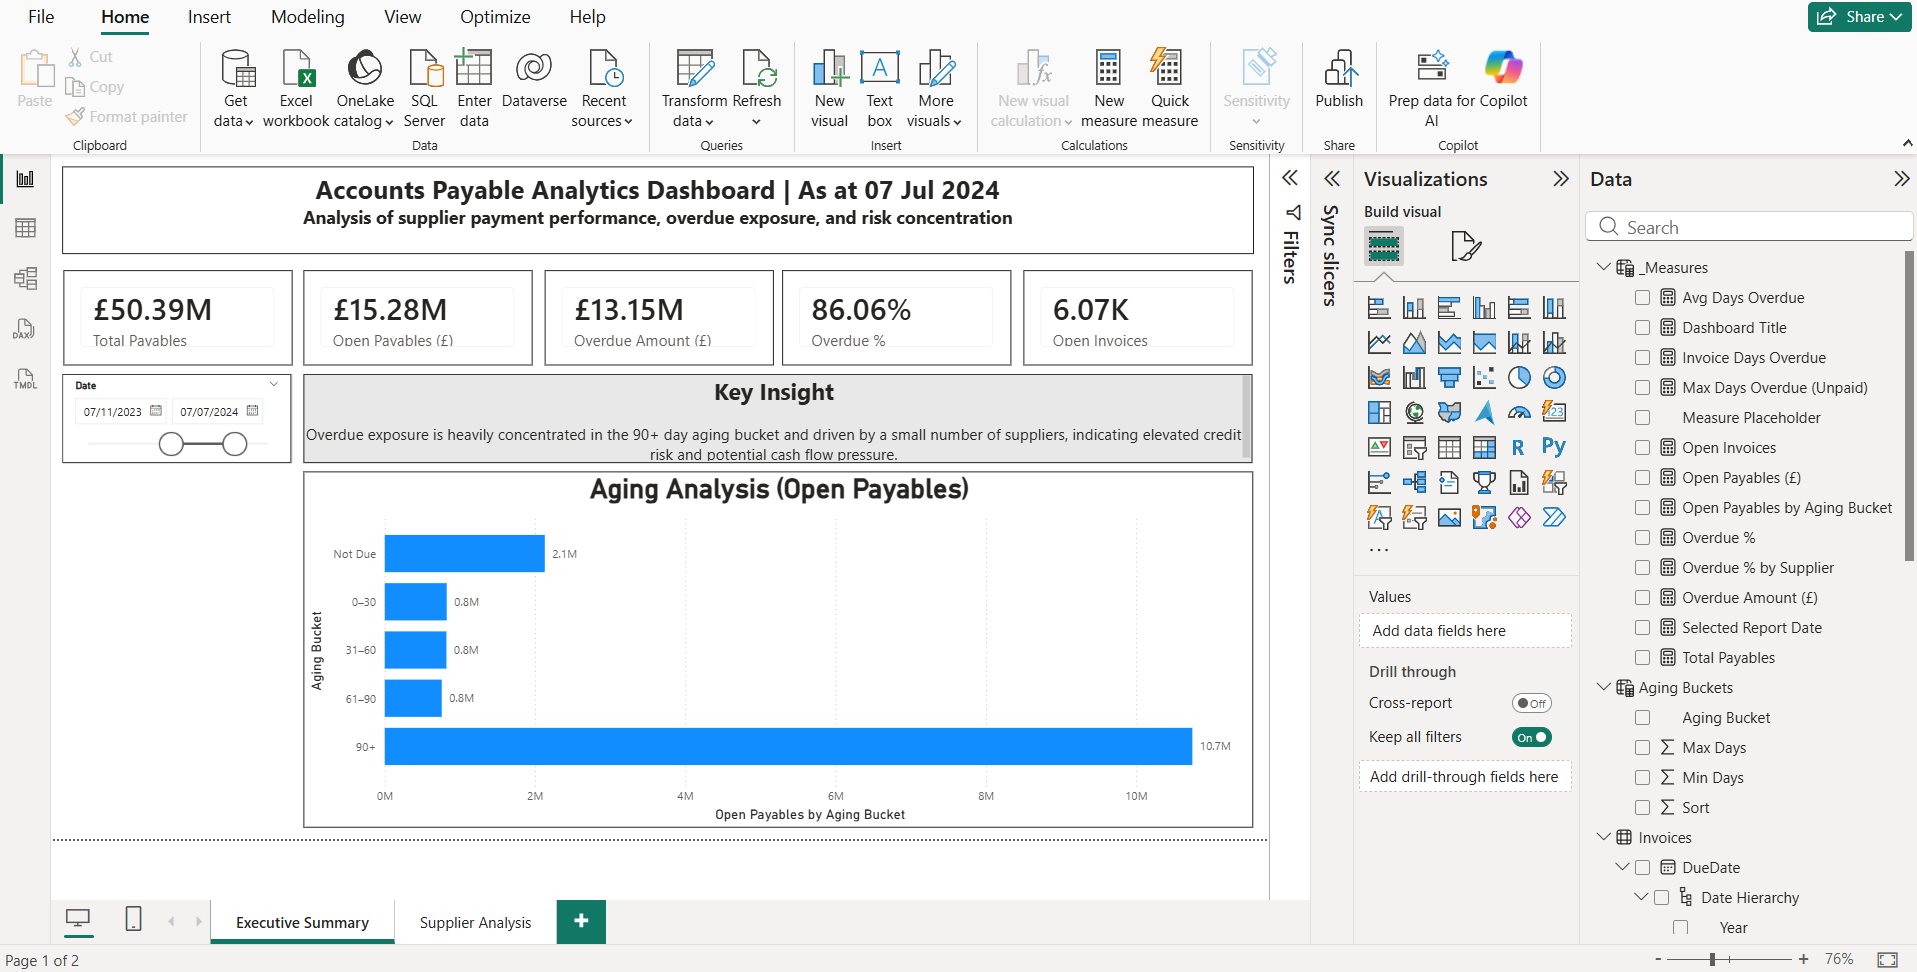

The page's visual inventory and layout, read from the dashboard file:
{"tool":"powerbi","page":{"name":"Executive Summary","canvas":[1280,720],"ordinal":0},"visuals":[{"type":"clusteredBarChart","title":"Aging Analysis (Open Payables)","fields":{"Category":["Aging Buckets.Aging Bucket"],"Y":["_Measures.Open Payables by Aging Bucket"]},"box":[265.5,333.8,998.8,374.5],"z":0},{"type":"slicer","fields":{"Values":["Report Date.Date"]},"box":[11.8,231.3,240.5,93.3],"z":1000},{"type":"cardVisual","fields":{"Data":["_Measures.Total Payables"]},"box":[13.1,122.2,240.5,99.9],"z":2000},{"type":"cardVisual","fields":{"Data":["_Measures.Open Payables"]},"box":[265.5,122.2,240.5,99.9],"z":3000},{"type":"cardVisual","fields":{"Data":["_Measures.Overdue Amount"]},"box":[519.1,122.2,240.5,99.9],"z":4000},{"type":"cardVisual","fields":{"Data":["_Measures.Open Invoices"]},"box":[1022.4,122.2,240.5,99.9],"z":5000},{"type":"cardVisual","fields":{"Data":["_Measures.Overdue %"]},"box":[768.8,122.2,240.5,99.9],"z":6000},{"type":"textbox","box":[11.8,13.1,1252.4,92],"z":7000},{"type":"textbox","box":[265.5,231.3,997.5,93.3],"z":8000}]}

Visuals, with their boxes on the page's 1280x720 design canvas (x1, y1, x2, y2). These are canvas units, not pixel positions in the 1917x972 screenshot, which may show the page scaled, cropped or inside an application window:
"Aging Analysis (Open Payables)" clusteredBarChart: <box>266,334,1264,708</box>
slicer - Report Date.Date: <box>12,231,252,325</box>
cardVisual - _Measures.Total Payables: <box>13,122,254,222</box>
cardVisual - _Measures.Open Payables: <box>266,122,506,222</box>
cardVisual - _Measures.Overdue Amount: <box>519,122,760,222</box>
cardVisual - _Measures.Open Invoices: <box>1022,122,1263,222</box>
cardVisual - _Measures.Overdue %: <box>769,122,1009,222</box>
textbox: <box>12,13,1264,105</box>
textbox: <box>266,231,1263,325</box>
